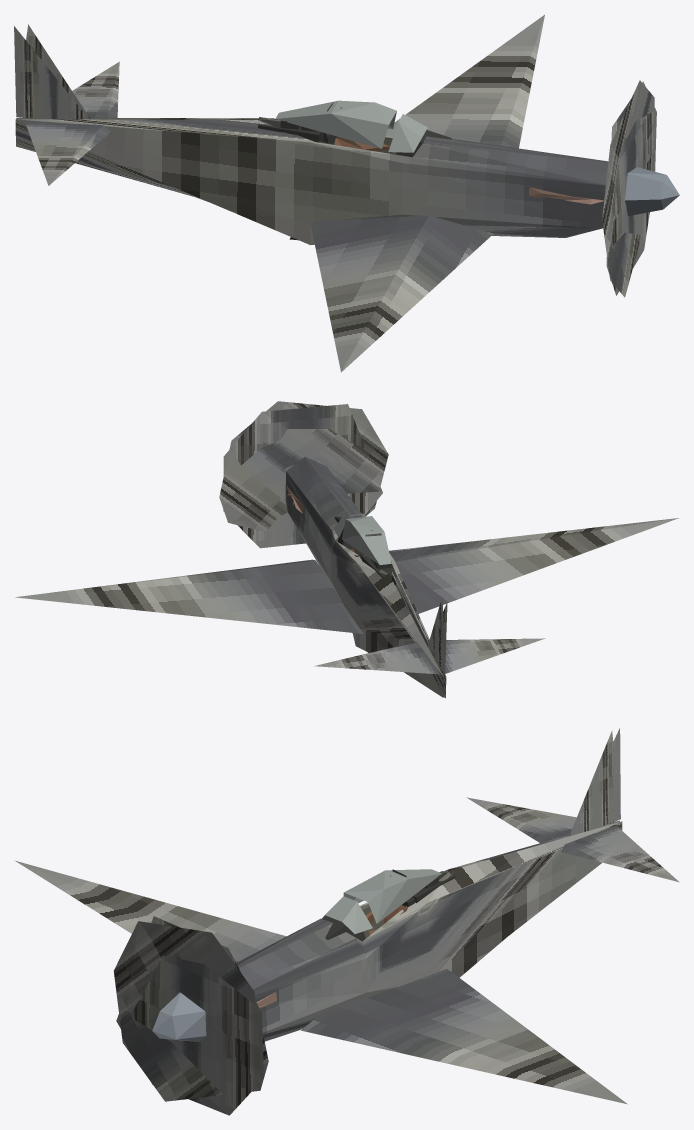
3 renders of one model, top to bottom at view 1: azimuth 30°, elevation 25°; view 2: azimuth 150°, elevation 25°; view 3: azimuth 270°, elevation 25°, orthographic. The views are drawn at different scales.
Visible parts, largest first — view 1: VIFS13-FACES, VIFS01-FACES; view 2: VIFS13-FACES, VIFS01-FACES; view 3: VIFS13-FACES, VIFS01-FACES.
Boxes of the visible parts, x1,y1,x2,y2 form: VIFS13-FACES: (14, 14, 656, 372); VIFS01-FACES: (258, 100, 679, 240); VIFS13-FACES: (15, 401, 678, 698); VIFS01-FACES: (285, 457, 396, 652); VIFS13-FACES: (14, 728, 679, 1115); VIFS01-FACES: (152, 869, 455, 1041).
Bounding box in the file's own units: 5.68 × 1.85 × 5.75.
Materials: 1 (1 with a texture image).
